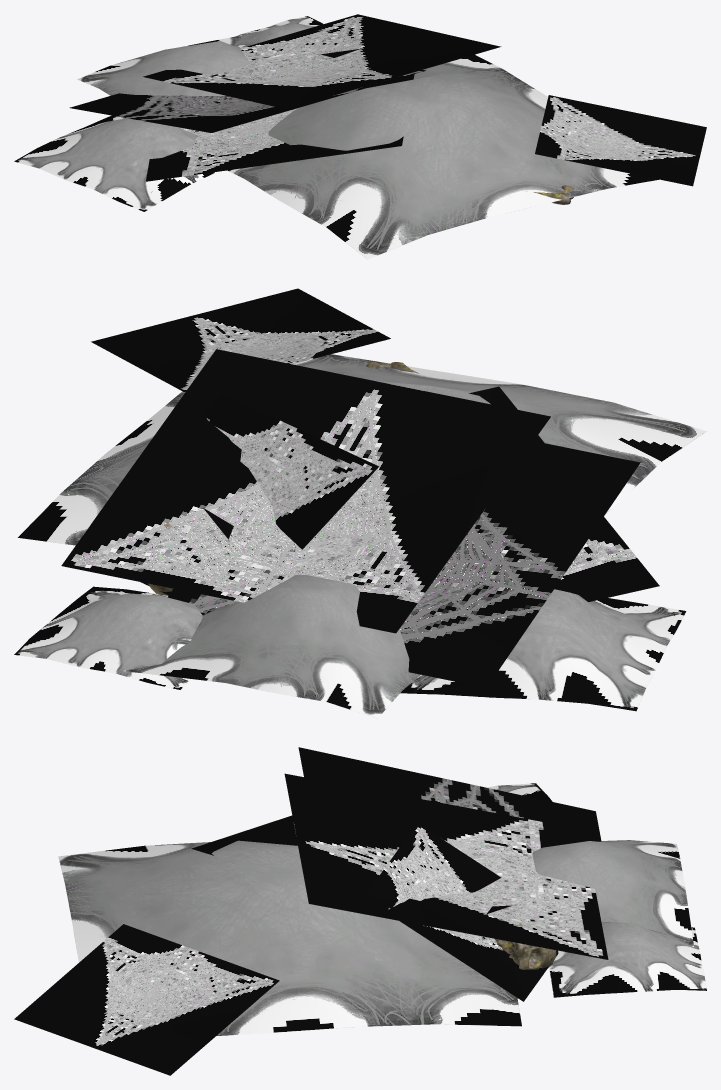
File: SpiderWebNest_06-transformed.glb
The picture shows the model from 3 angles, top to bottom: view 1: azimuth 30°, elevation 25°; view 2: azimuth 150°, elevation 25°; view 3: azimuth 270°, elevation 25°; orthographic projection. The views are drawn at different scales.
Parts seen in each view (by area): view 1: default; view 2: default; view 3: default.
Part boxes in pixels (x1,y1,x2,y2): default: [14, 14, 706, 259]; default: [14, 288, 706, 718]; default: [14, 747, 706, 1075].
Bounding box in the file's own units: 5.89 × 1 × 5.54.
Materials: 5 (5 with a texture image).
